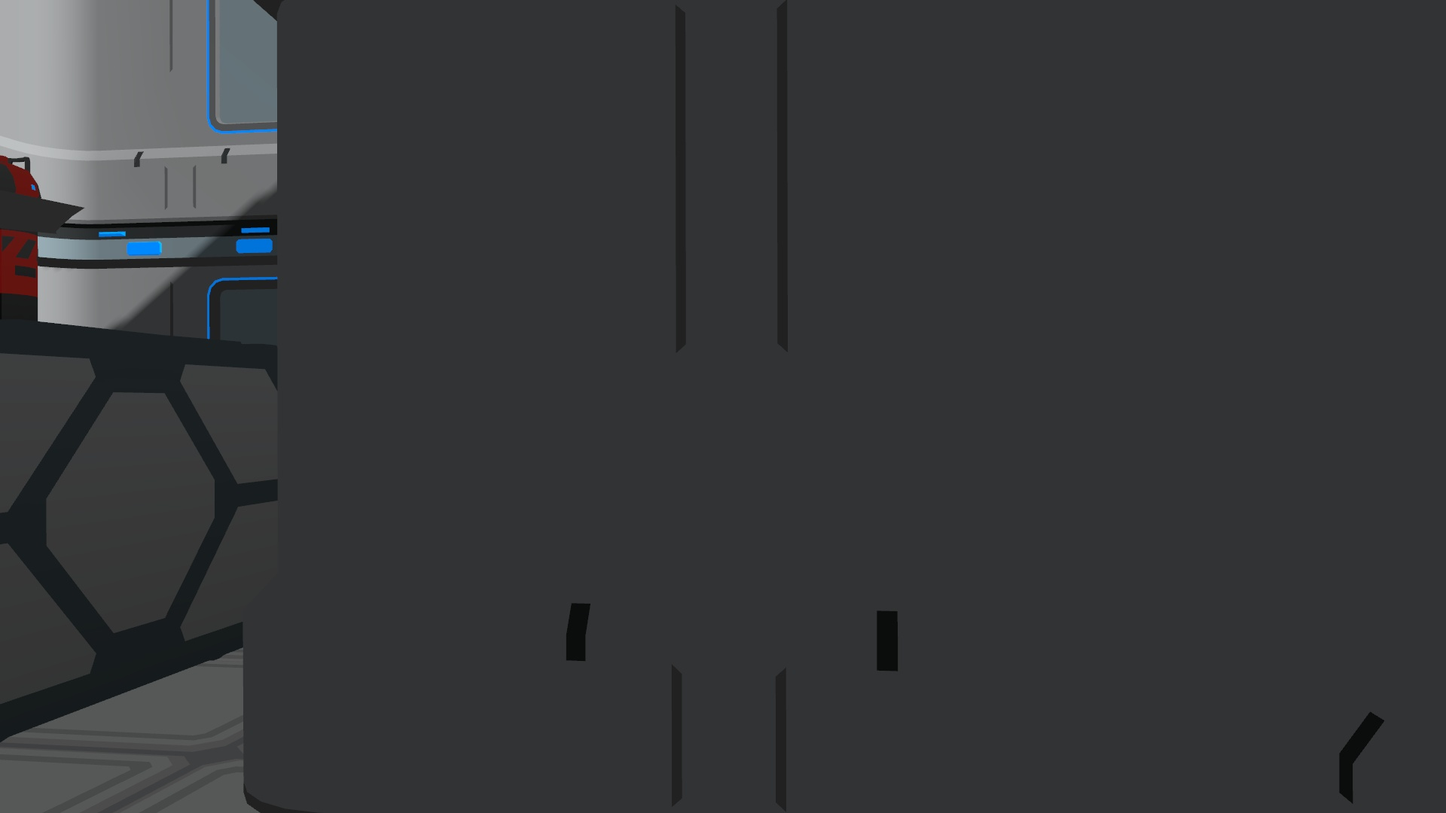red_barrel: (0, 149, 48, 333)
